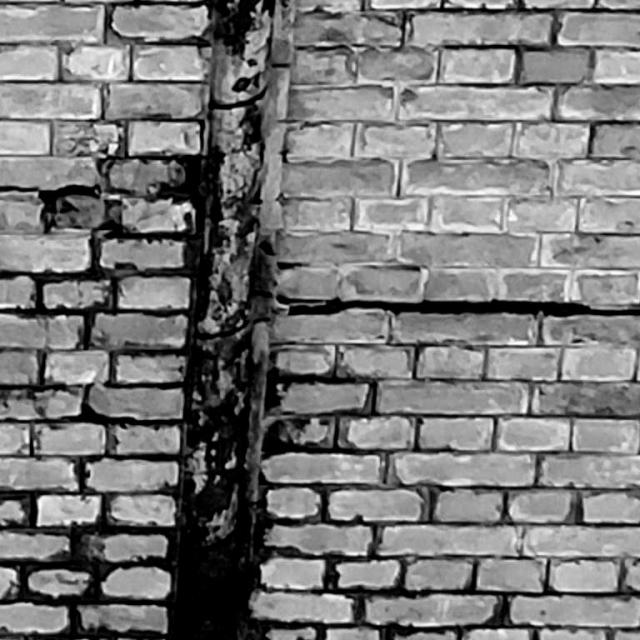crack: (275, 293, 640, 317)
